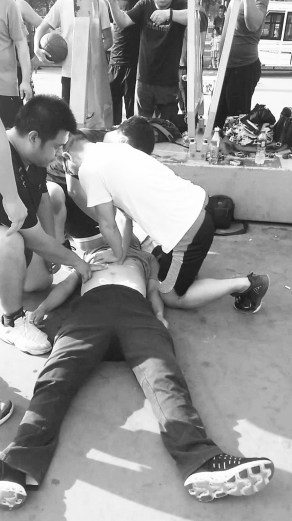fall: (10, 221, 277, 506)
